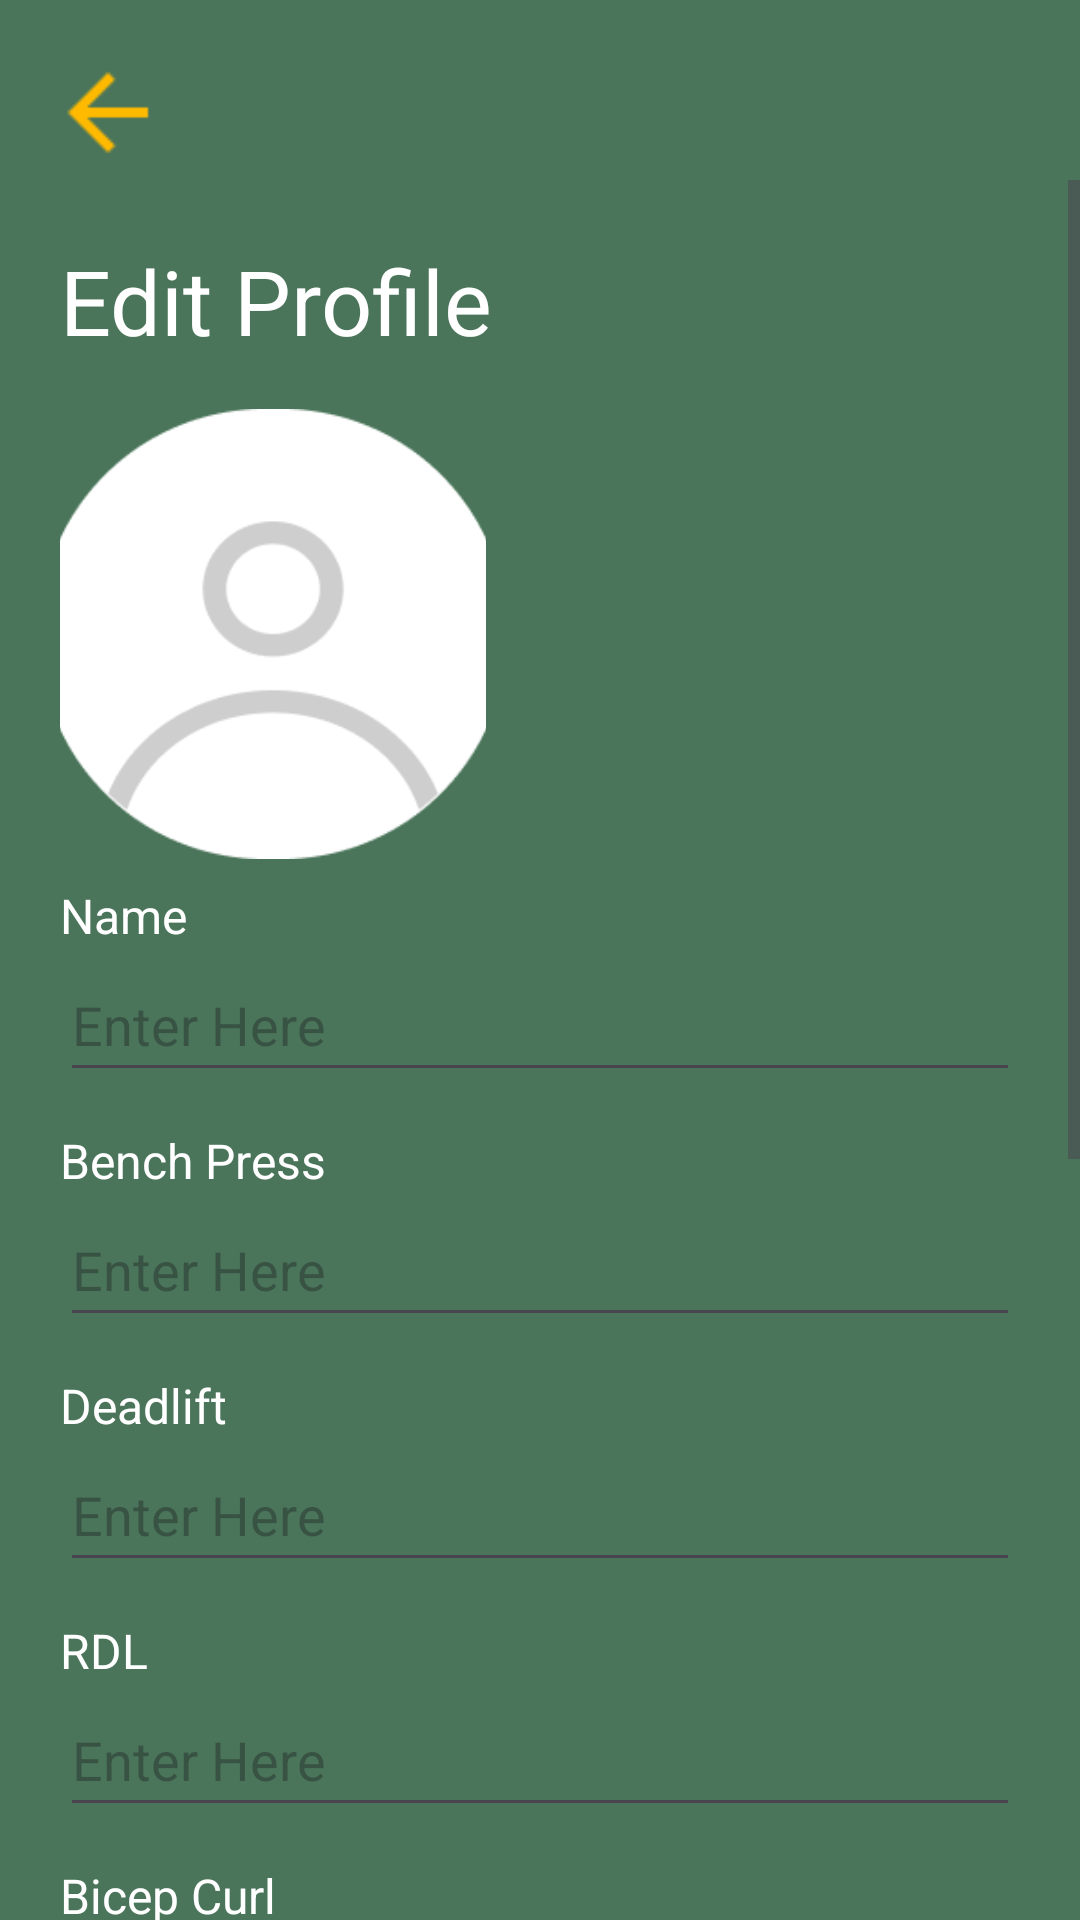

Icons on this 1080px×1920px Android screen, each with the point to tap as (x=x, y=y):
back arrow: (x=108, y=112)
